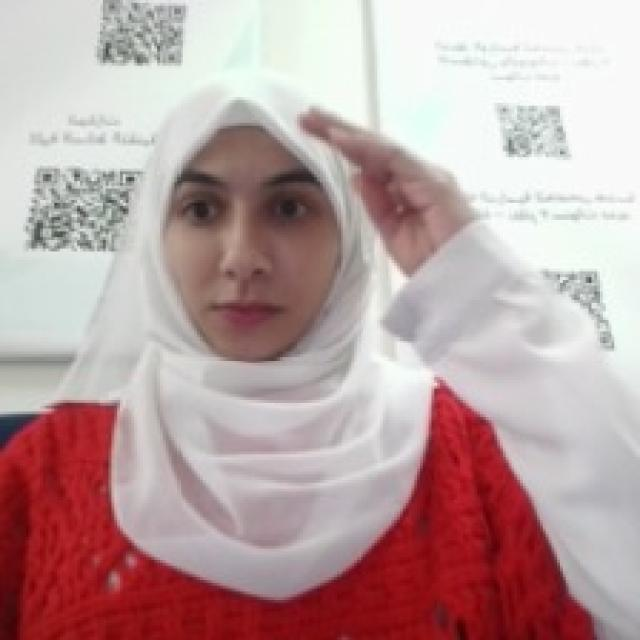Thanks: (288, 94, 472, 274)
